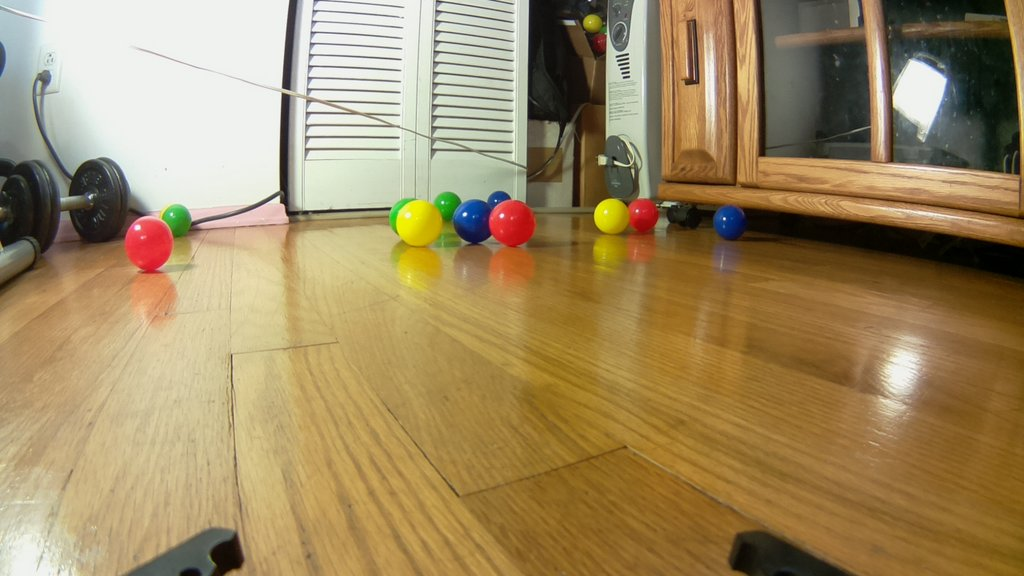home: (432, 191, 462, 222)
